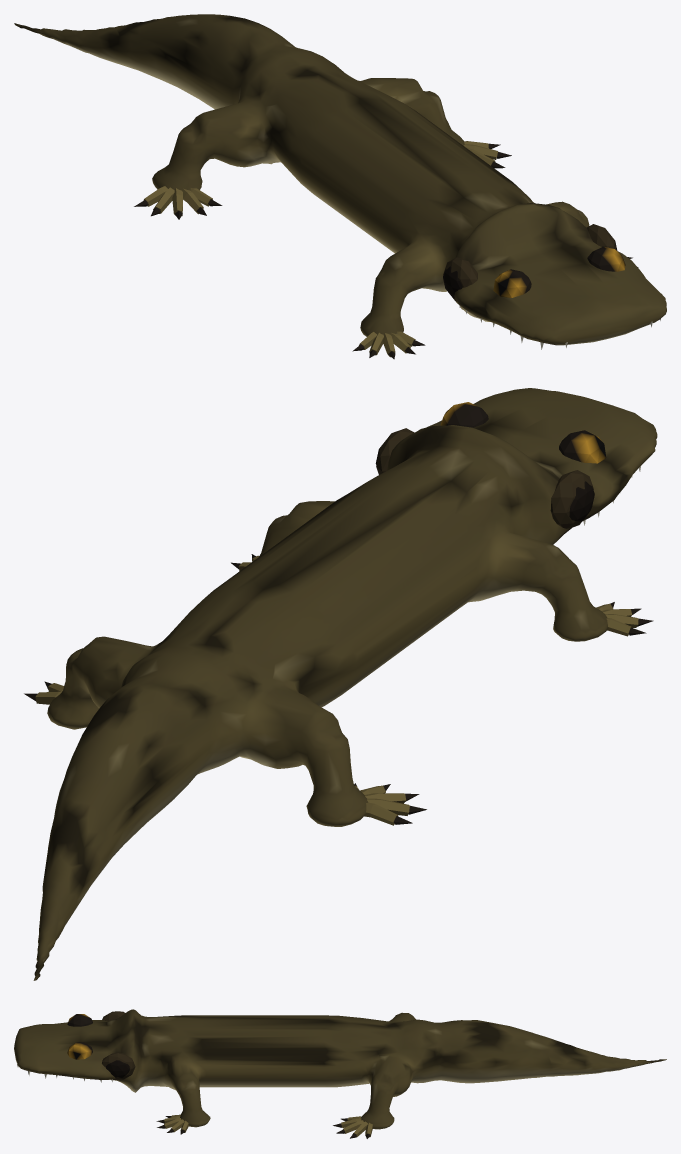
File: Dendrerpeton.fbx
The picture shows the model from 3 angles, top to bottom: view 1: azimuth 30°, elevation 25°; view 2: azimuth 150°, elevation 25°; view 3: azimuth 270°, elevation 25°; orthographic projection. The views are drawn at different scales.
Parts seen in each view (by area): view 1: Dendrerpeton; view 2: Dendrerpeton; view 3: Dendrerpeton.
Part boxes in pixels (x1=…): Dendrerpeton: x1=14, y1=14, x2=666, y2=359; Dendrerpeton: x1=24, y1=388, x2=657, y2=980; Dendrerpeton: x1=14, y1=1009, x2=666, y2=1138.
Size of the model in its own units: 0.3934 by 0.1349 by 1.05.
